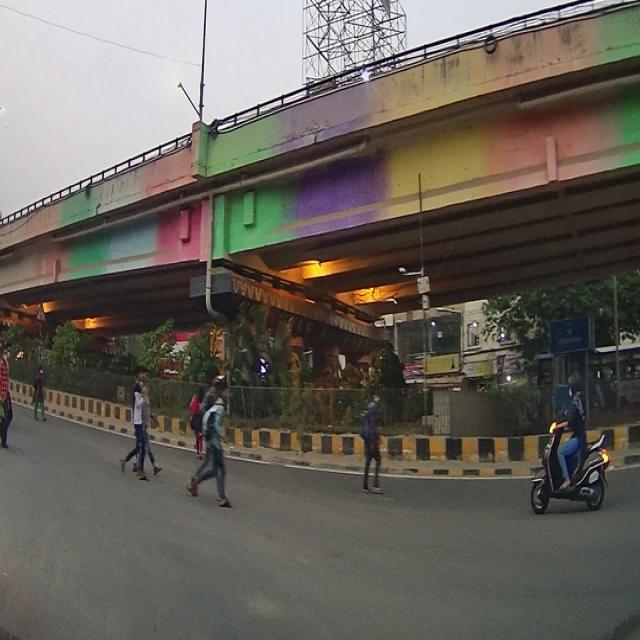gap-in-median: (38, 303, 47, 321)
